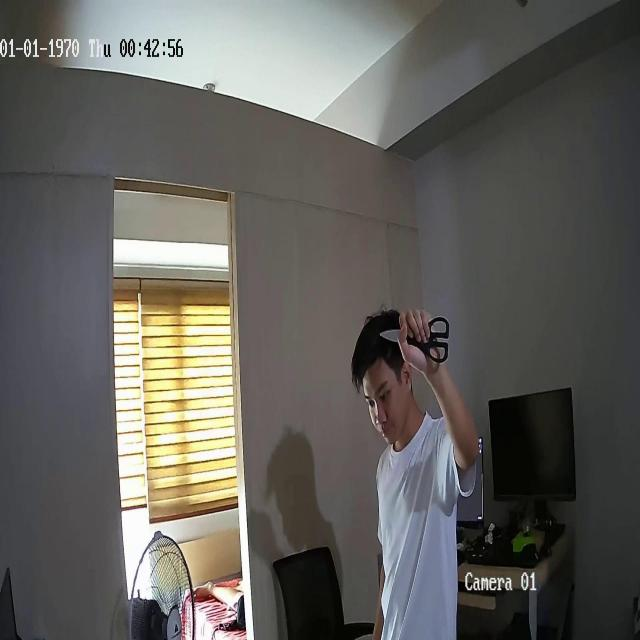scissor: (380, 316, 450, 362)
